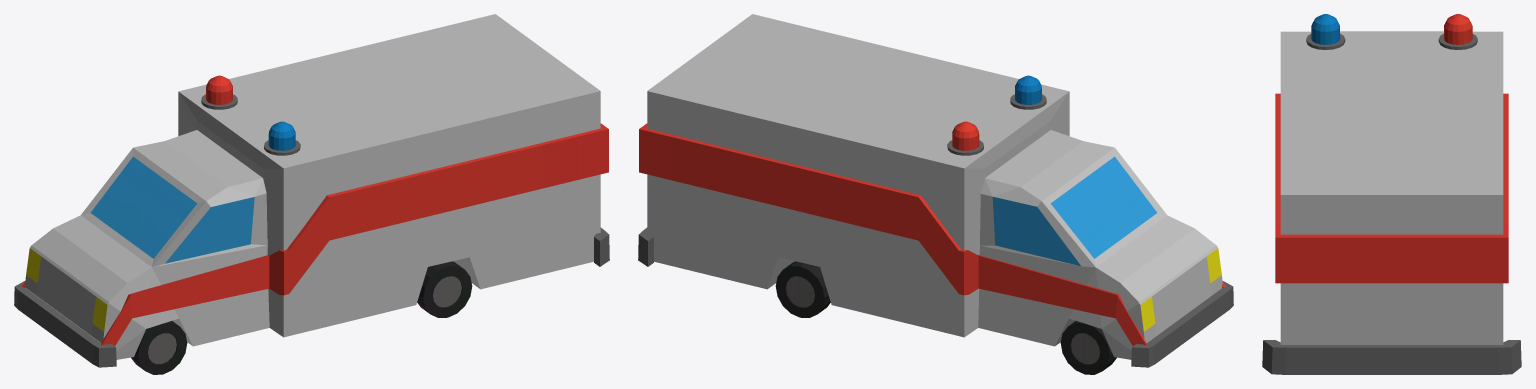
The model's file is Ambulance.fbx.
3 views of the same model, side by side, from view 1: azimuth 30°, elevation 25°; view 2: azimuth 150°, elevation 25°; view 3: azimuth 270°, elevation 25° (orthographic). The views are drawn at different scales.
Parts seen in each view (by area): view 1: AmbulanceBody, AmbulanceTires; view 2: AmbulanceBody, AmbulanceTires; view 3: AmbulanceBody.
Boxes of the visible parts, x1=… form: AmbulanceBody: x1=14, y1=14, x2=609, y2=367; AmbulanceTires: x1=131, y1=261, x2=472, y2=374; AmbulanceBody: x1=638, y1=14, x2=1233, y2=367; AmbulanceTires: x1=775, y1=261, x2=1116, y2=374; AmbulanceBody: x1=1262, y1=14, x2=1521, y2=374.
Size of the model in its own units: 486 by 200 by 207.
